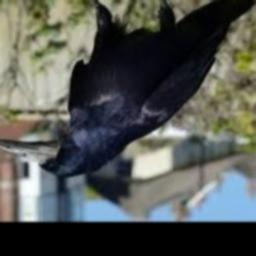Crow: (0, 0, 255, 180)
